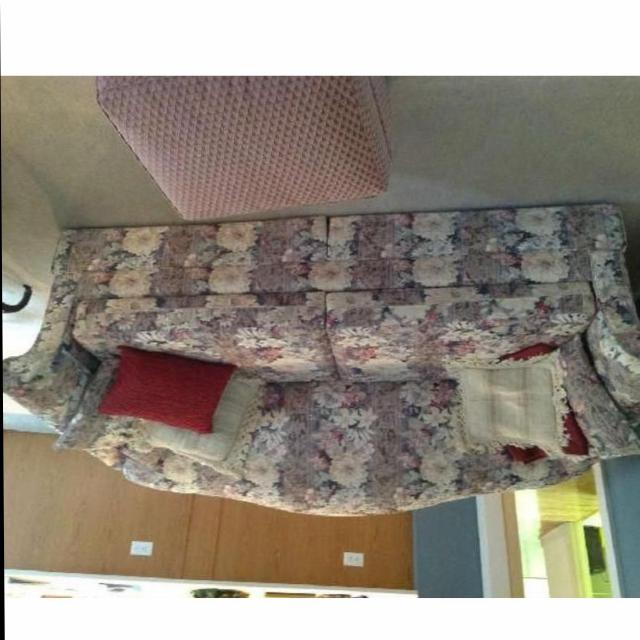Sofa: (1, 206, 640, 519)
